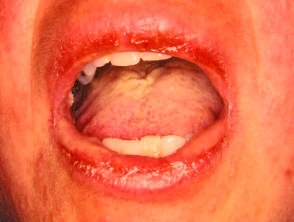SJS-TEN: (50, 124, 235, 208), (52, 17, 244, 96)
